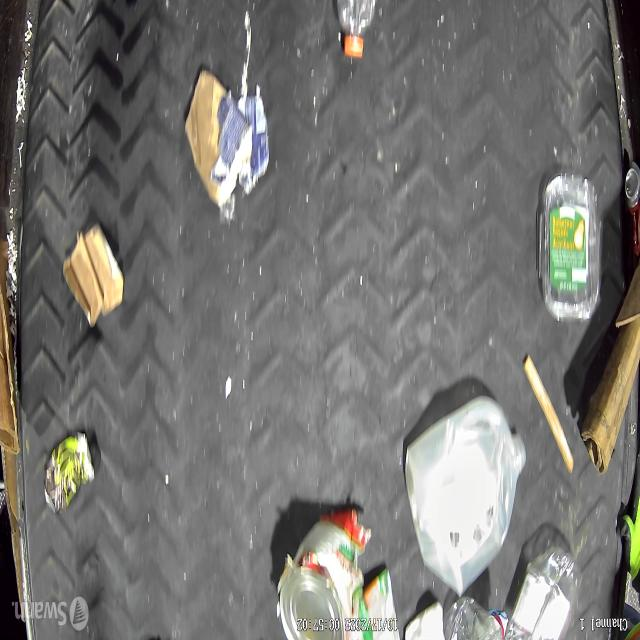can: (276, 508, 366, 640), (624, 162, 640, 254)
milk_jug: (405, 392, 524, 593)
